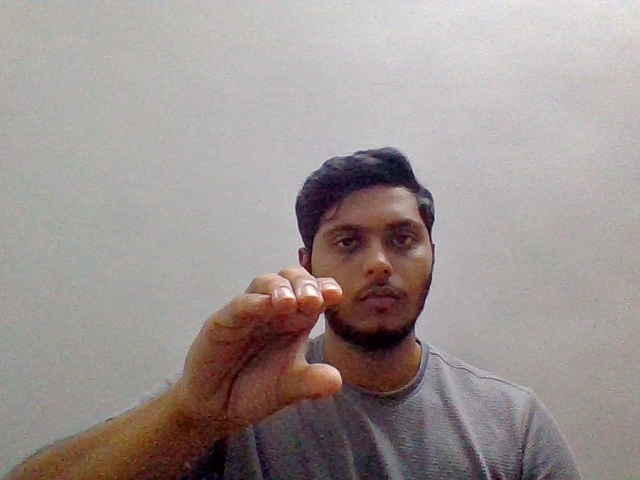No: (173, 260, 350, 443)
